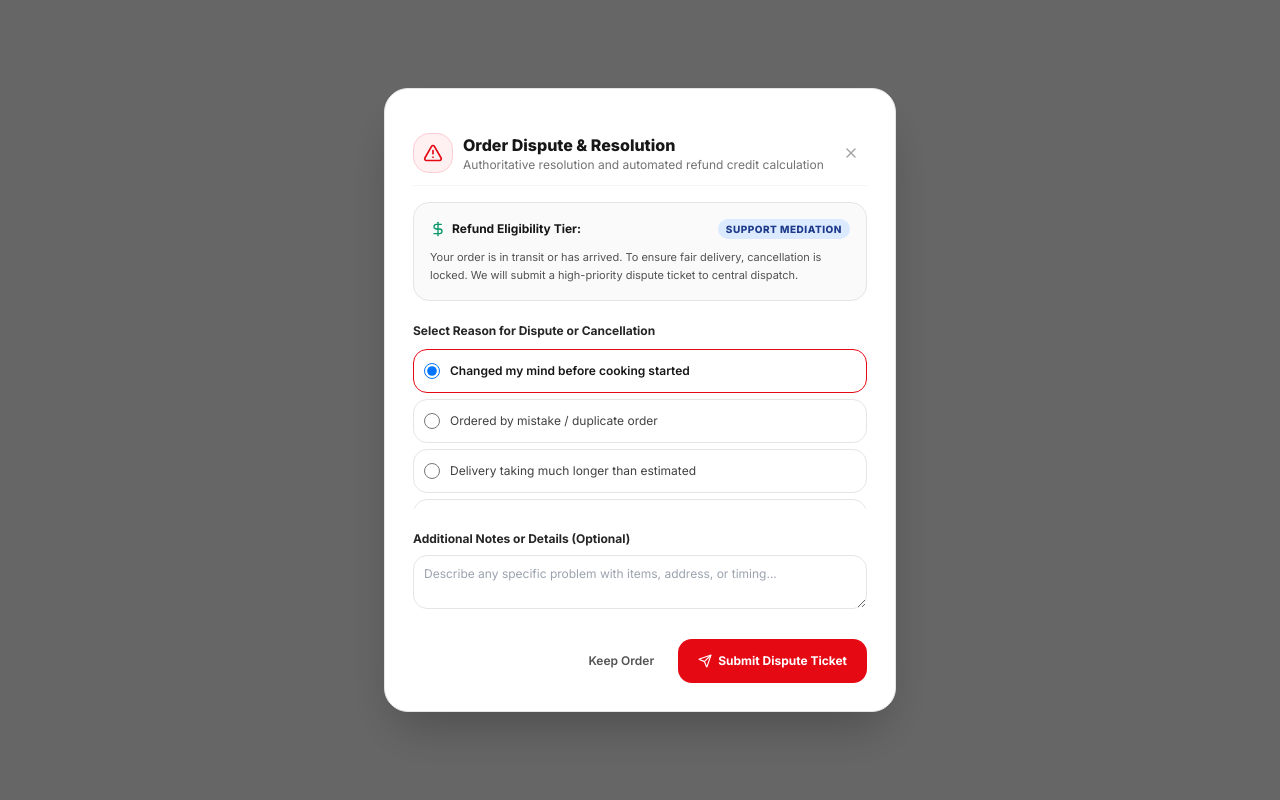
Test: Phase 4: Kitchen Display, Live Stepper, WhatsApp Bridge & Smart Dispute Suite › SmartDisputeResolutionModal Component › switches to dispute ticket mode when order is in transit or delivered
The width and height of the screenshot is (1280, 800).
Expected: the heading "Order Dispute & Resolution" is shown, [463, 135, 675, 155]
Expected: the text "Support Mediation" is shown, [718, 219, 850, 239]
What coordinates should you click on to do the following:
click the button "Submit Dispute Ticket"
I would click on:
 (773, 661)
Its box is [678, 639, 867, 683].
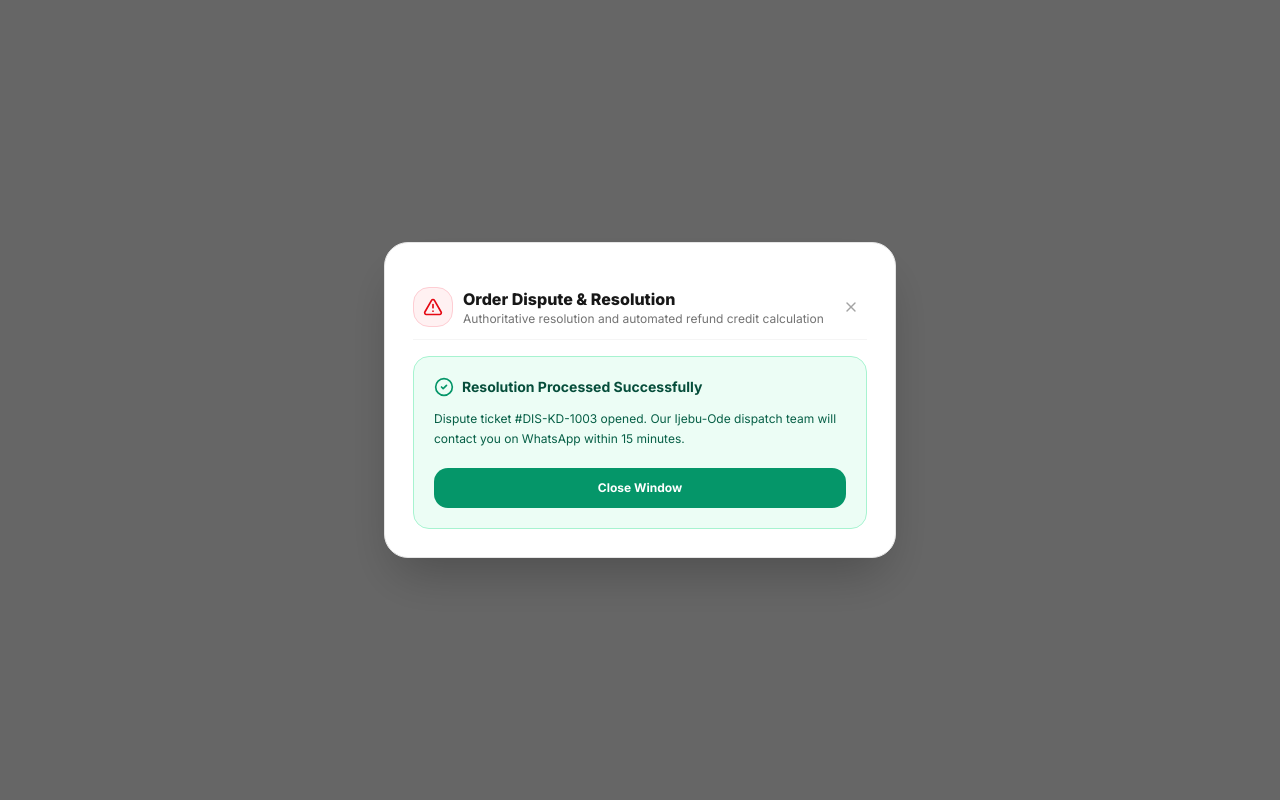
Now the text "Dispute ticket #DIS-KD-1003 opened" is shown, box [434, 411, 836, 446]
